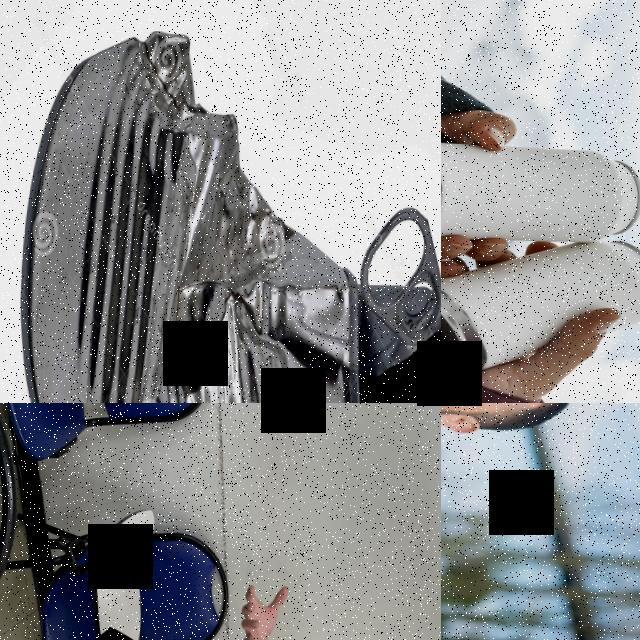can: (441, 228, 640, 384), (441, 137, 640, 251)
